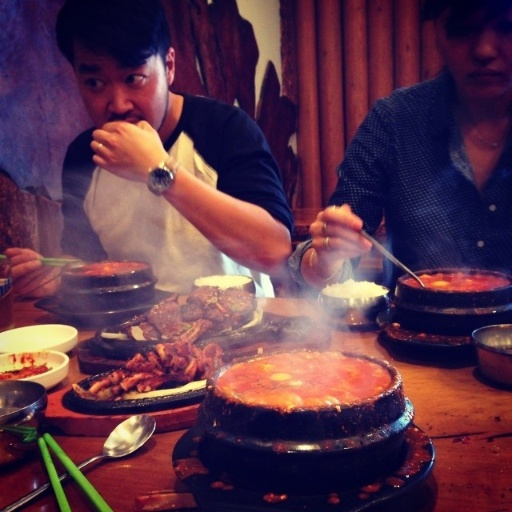hand: (76, 106, 164, 172), (308, 201, 373, 279), (4, 241, 49, 296)
